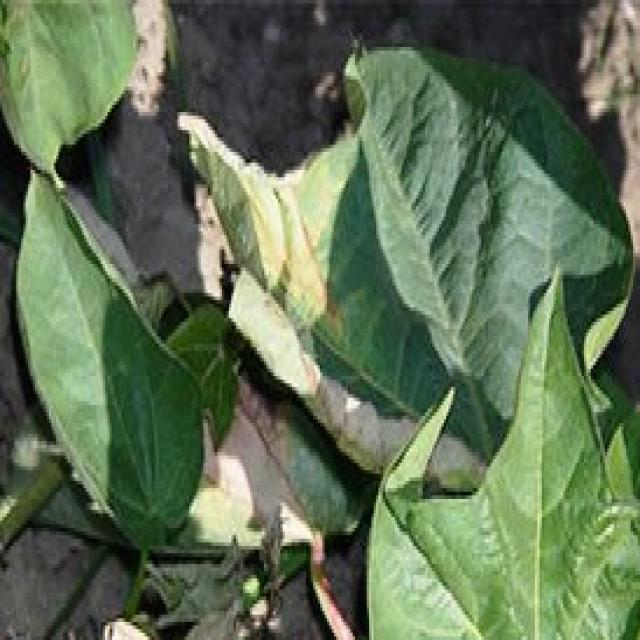Fusarium Wilt: (9, 7, 599, 588)
